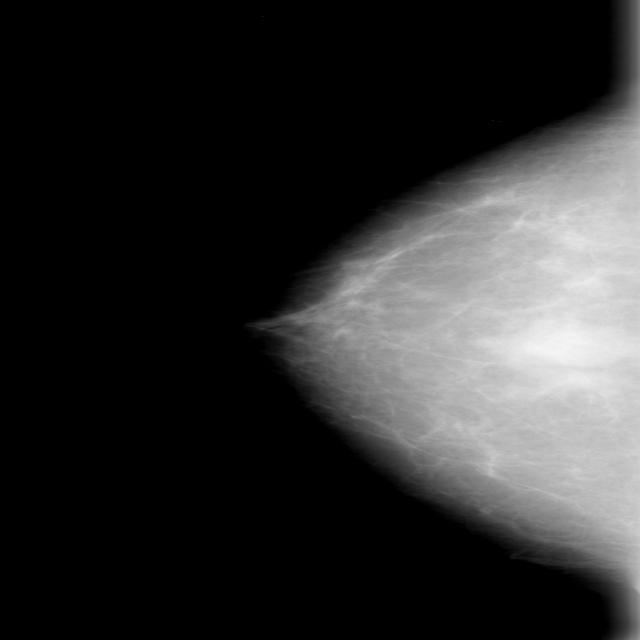normal: (252, 90, 640, 564)
